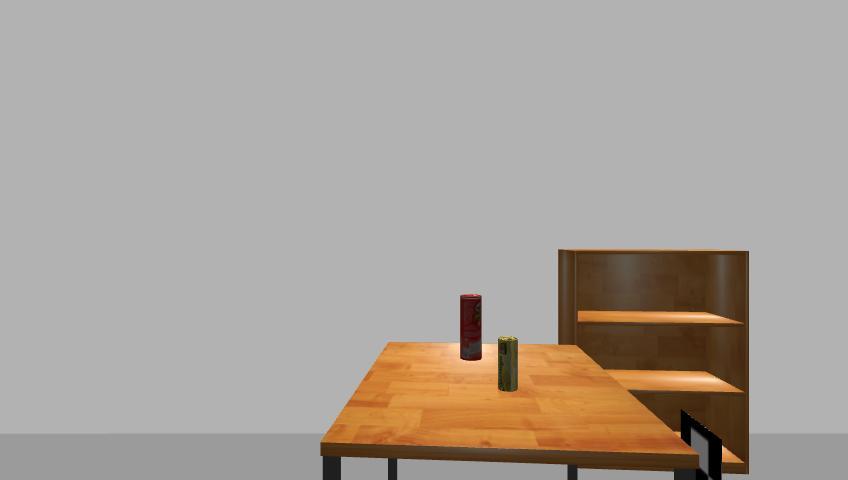aruco marker: (676, 410, 727, 480)
biscuits pack: (497, 336, 520, 393)
bookshelf: (554, 246, 757, 480)
dinner table: (315, 340, 704, 480)
pringles can: (457, 293, 484, 363)
